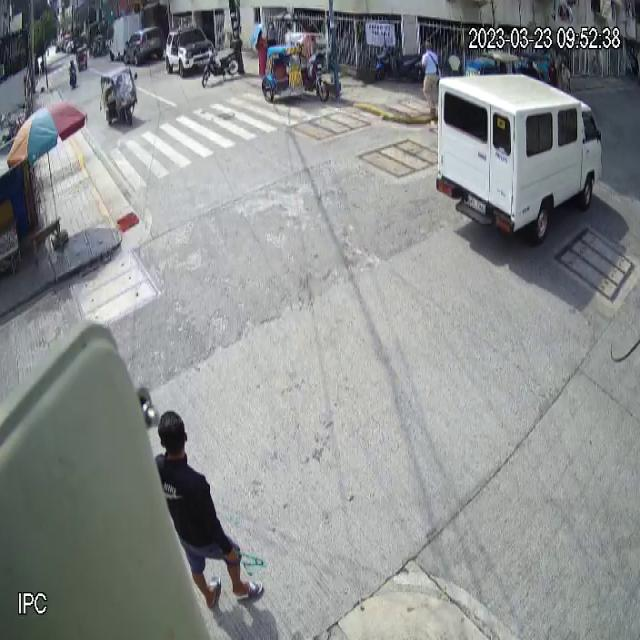Tricycle: (261, 32, 330, 103)
Van: (438, 72, 602, 248)
